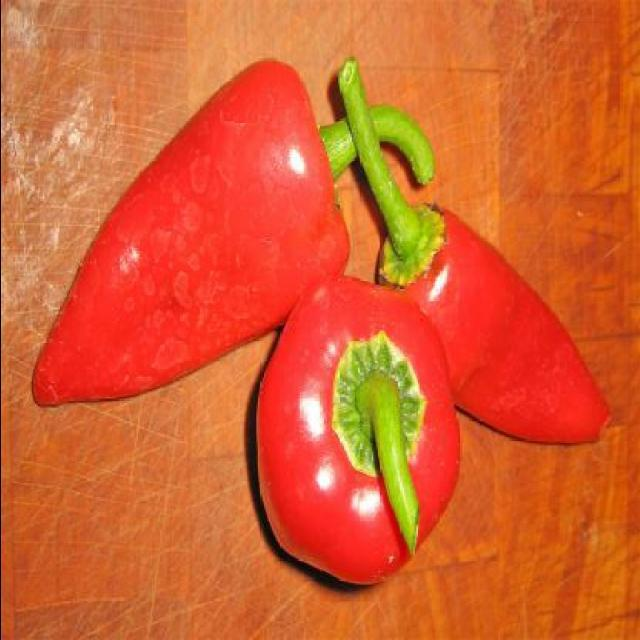Bell pepper: (256, 276, 464, 587)
